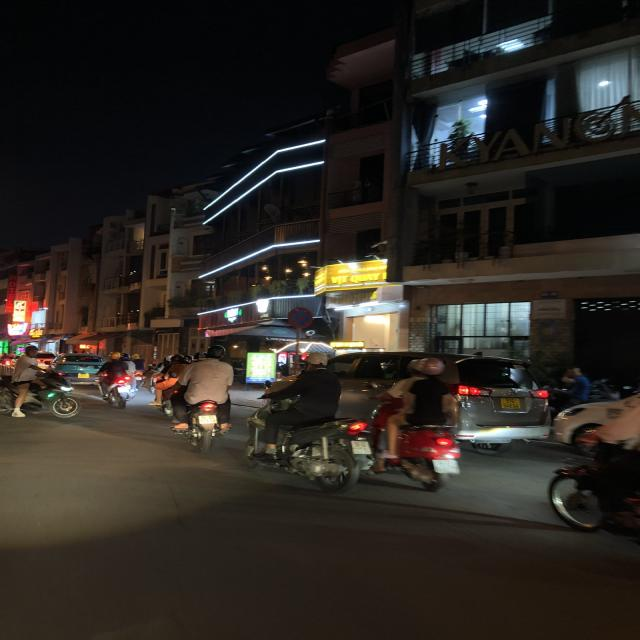Bien bao cam dung xe va do xe: (283, 305, 317, 330)
